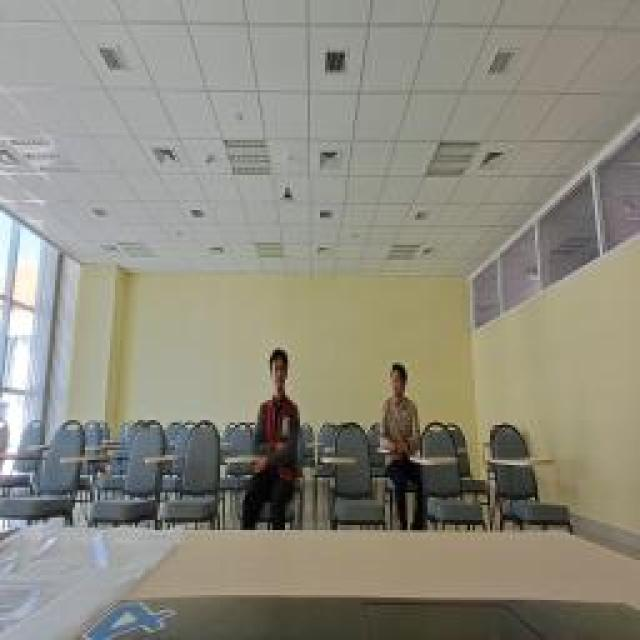study: (252, 347, 300, 455), (380, 365, 422, 457)
